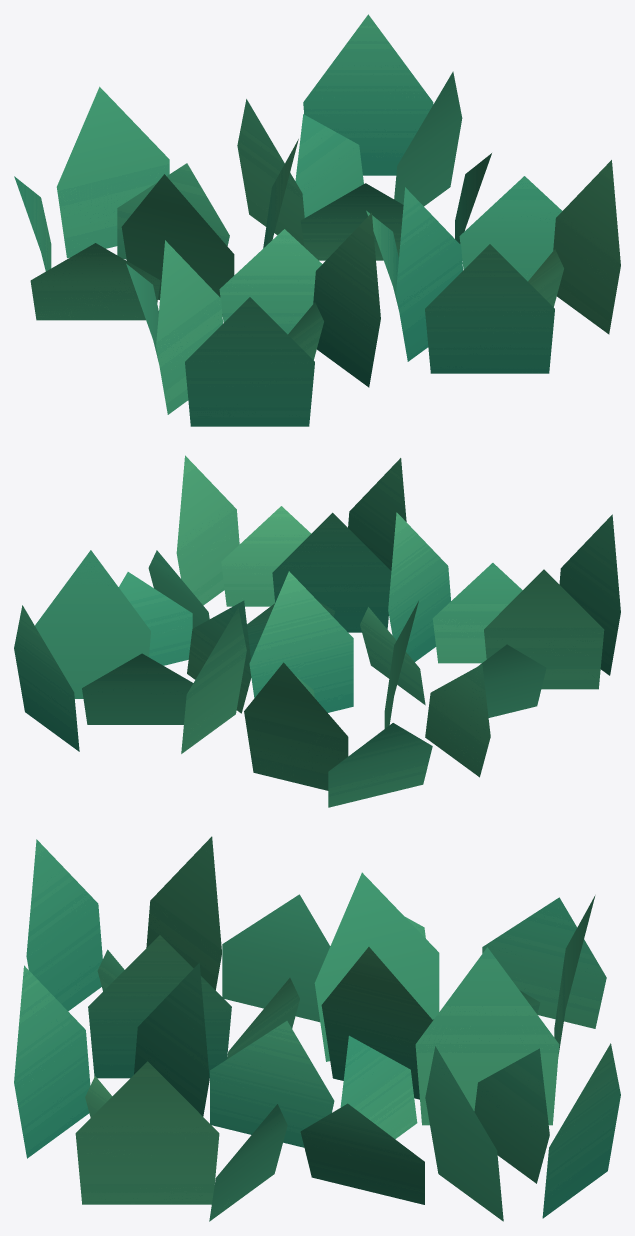
File: grass-large_lev3.glb
3 renders of one model, top to bottom at view 1: azimuth 30°, elevation 25°; view 2: azimuth 150°, elevation 25°; view 3: azimuth 270°, elevation 25°, orthographic. The views are drawn at different scales.
Parts seen in each view (by area): view 1: grass-large_lev3; view 2: grass-large_lev3; view 3: grass-large_lev3.
Part boxes in pixels (bbox=[...]): grass-large_lev3: bbox=[14, 14, 620, 426]; grass-large_lev3: bbox=[14, 455, 620, 807]; grass-large_lev3: bbox=[14, 836, 620, 1221].
Bounding box in the file's own units: 4.08 × 1.22 × 4.18.
1 material, 1 textured.
